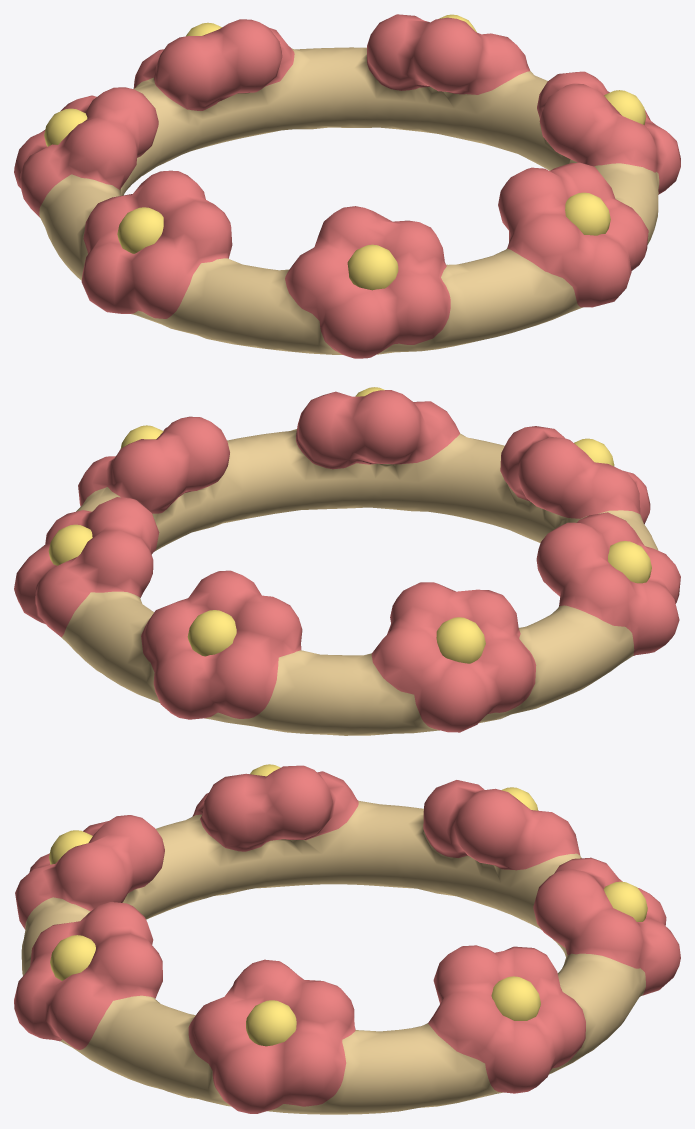
The model's file is acc_flowercrown.glb.
3 views of the same model, one above another, from view 1: azimuth 30°, elevation 25°; view 2: azimuth 150°, elevation 25°; view 3: azimuth 270°, elevation 25° (orthographic).
Parts seen in each view (by area): view 1: body, center; view 2: body, center; view 3: body, center.
Boxes of the visible parts, x1,y1,x2,y2 form: body: (14,14,680,358); center: (44,14,646,290); body: (14,390,680,735); center: (48,387,651,663); body: (14,765,680,1114); center: (49,764,647,1046).
Size of the model in its own units: 0.746 by 0.1565 by 0.7343.
